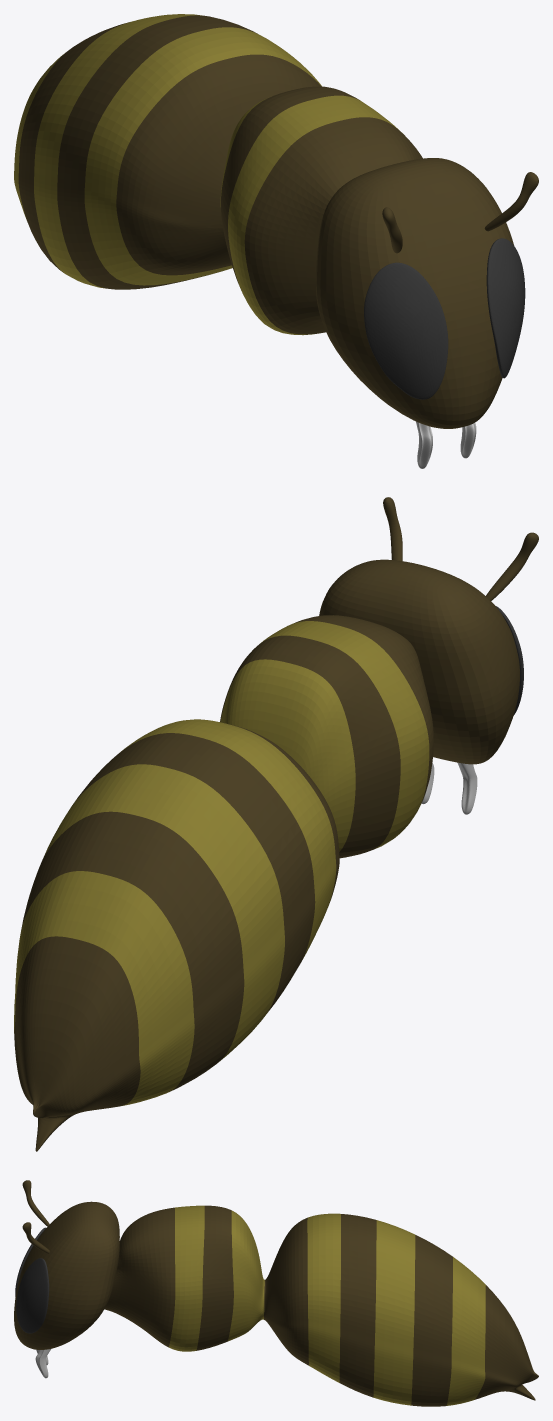
Rendered from Bee_Body_Without_Legs.fbx.
3 views of the same model, one above another, from view 1: azimuth 30°, elevation 25°; view 2: azimuth 150°, elevation 25°; view 3: azimuth 270°, elevation 25° (orthographic). The views are drawn at different scales.
Visible parts, largest first — view 1: polySurface37; view 2: polySurface37; view 3: polySurface37.
Part boxes in pixels (x1,y1,x2,y2): polySurface37: [14, 14, 538, 468]; polySurface37: [14, 497, 538, 1151]; polySurface37: [14, 1180, 538, 1406].
Size of the model in its own units: 5.77 by 7.77 by 18.64.
